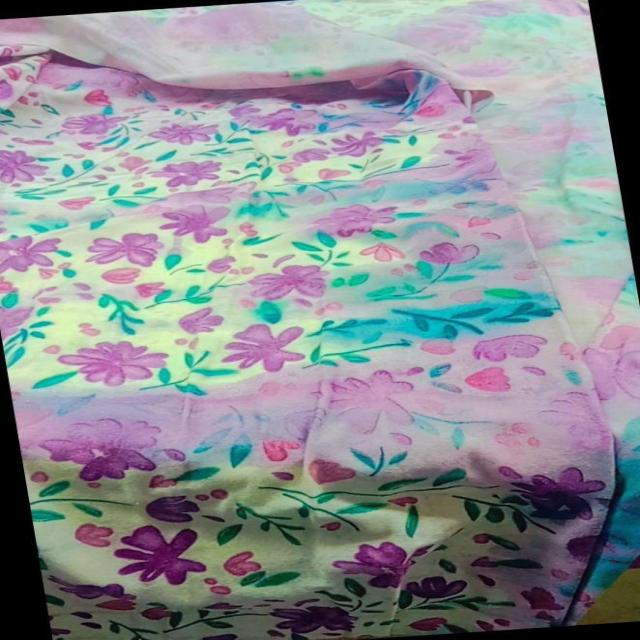baekra: (0, 0, 640, 543)
